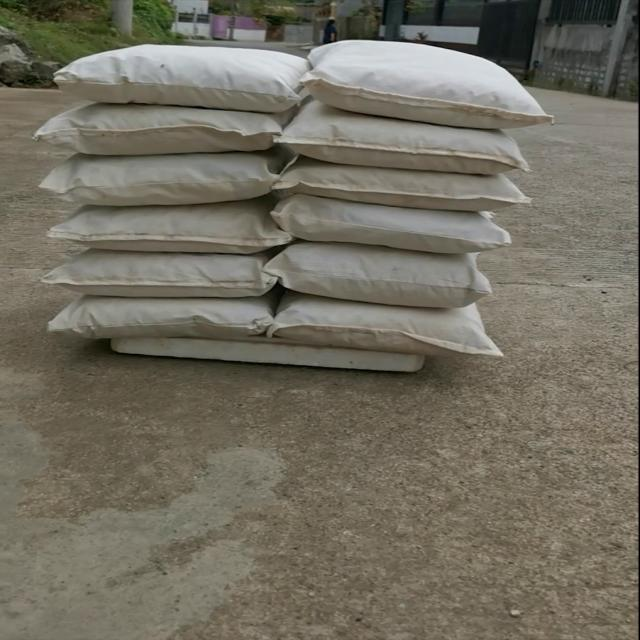Sack: (305, 32, 562, 127), (280, 106, 546, 181), (50, 39, 309, 116), (268, 240, 502, 319), (280, 190, 524, 261), (54, 283, 282, 355), (287, 301, 520, 371), (48, 241, 283, 310), (272, 158, 532, 219), (46, 148, 280, 215), (43, 199, 280, 261), (28, 102, 285, 158)
